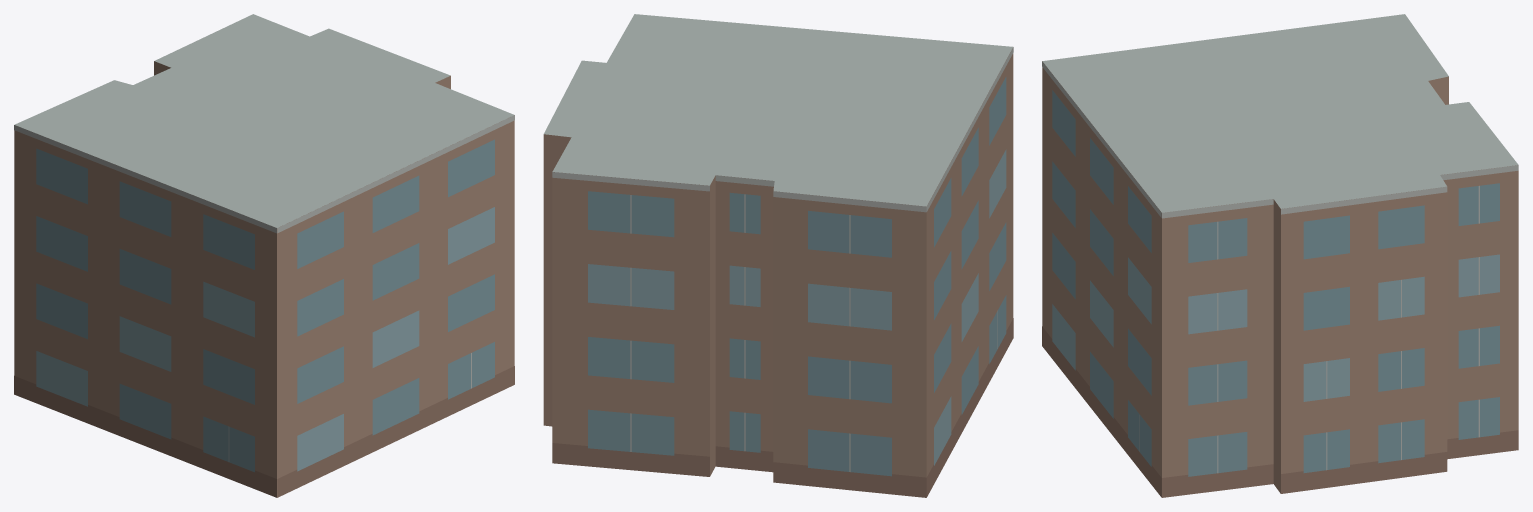
The model's file is survey-upis-32975504.glb.
3 renders of one model, left to right at view 1: azimuth 30°, elevation 25°; view 2: azimuth 150°, elevation 25°; view 3: azimuth 270°, elevation 25°, orthographic. The views are drawn at different scales.
Parts seen in each view (by area): view 1: survey-upis-32975504.tmp; view 2: survey-upis-32975504.tmp; view 3: survey-upis-32975504.tmp.
Part boxes in pixels (bbox=[...]): survey-upis-32975504.tmp: bbox=[14, 14, 514, 497]; survey-upis-32975504.tmp: bbox=[543, 14, 1013, 497]; survey-upis-32975504.tmp: bbox=[1042, 14, 1518, 497].
Size of the model in its own units: 18.26 by 12.2 by 18.49.
